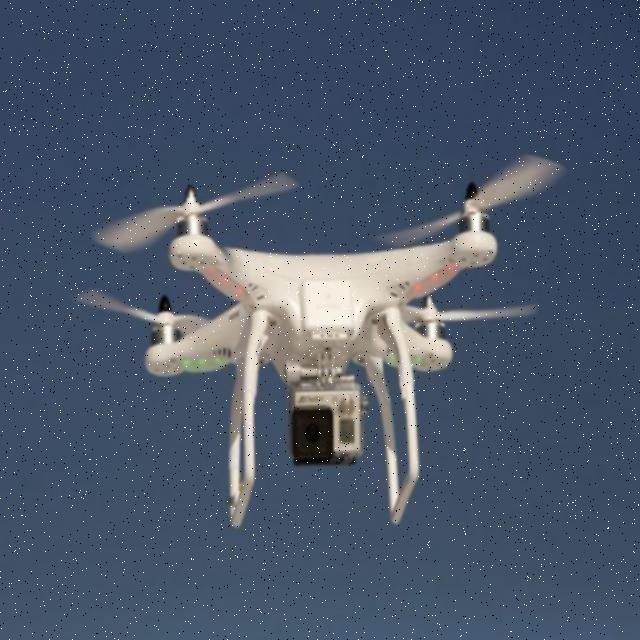UAV: (138, 170, 504, 534)
